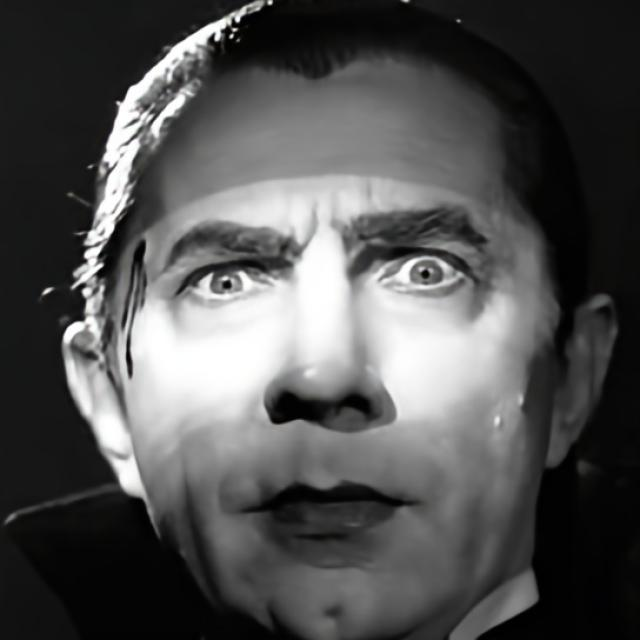fear: (112, 46, 562, 640)
